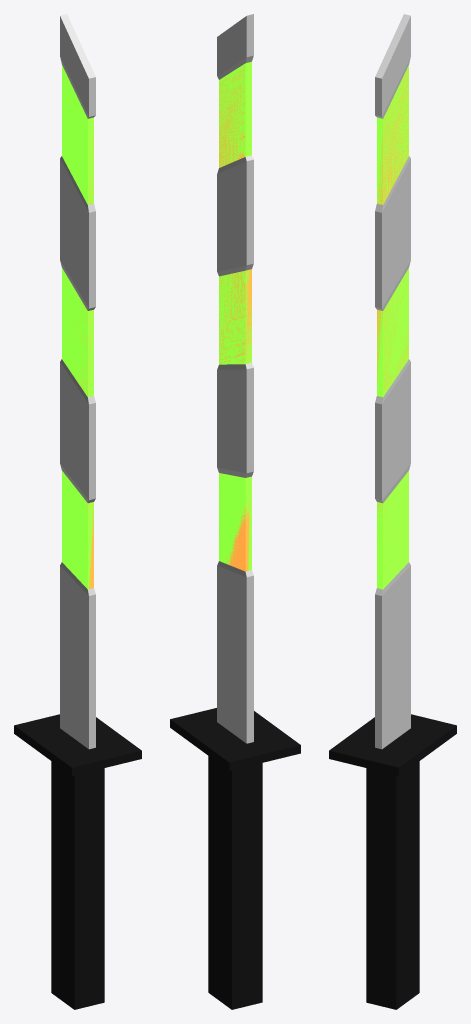
The model's file is katana.fbx.
3 views of the same model, side by side, from view 1: azimuth 30°, elevation 25°; view 2: azimuth 210°, elevation 25°; view 3: azimuth 330°, elevation 25° (orthographic). The views are drawn at different scales.
Visible parts, largest first — view 1: Sword Green, Sword Orange; view 2: Sword Green, Sword Orange; view 3: Sword Green, Sword Orange.
Part boxes in pixels (bbox=[...]): Sword Green: bbox=[14, 14, 141, 1009]; Sword Orange: bbox=[14, 58, 141, 994]; Sword Green: bbox=[170, 14, 300, 1009]; Sword Orange: bbox=[170, 17, 300, 1007]; Sword Green: bbox=[329, 14, 456, 1009]; Sword Orange: bbox=[329, 19, 456, 996].
Size of the model in its own units: 4.37 by 58 by 6.25.
